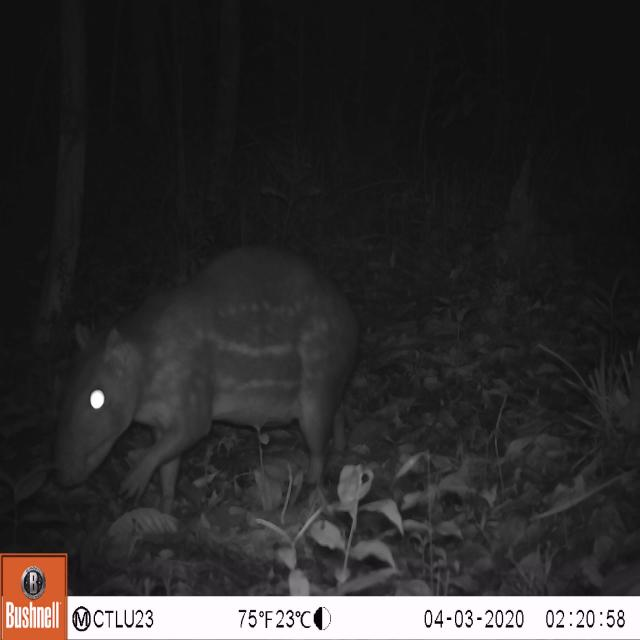Collared Peccary: (26, 220, 381, 517)
